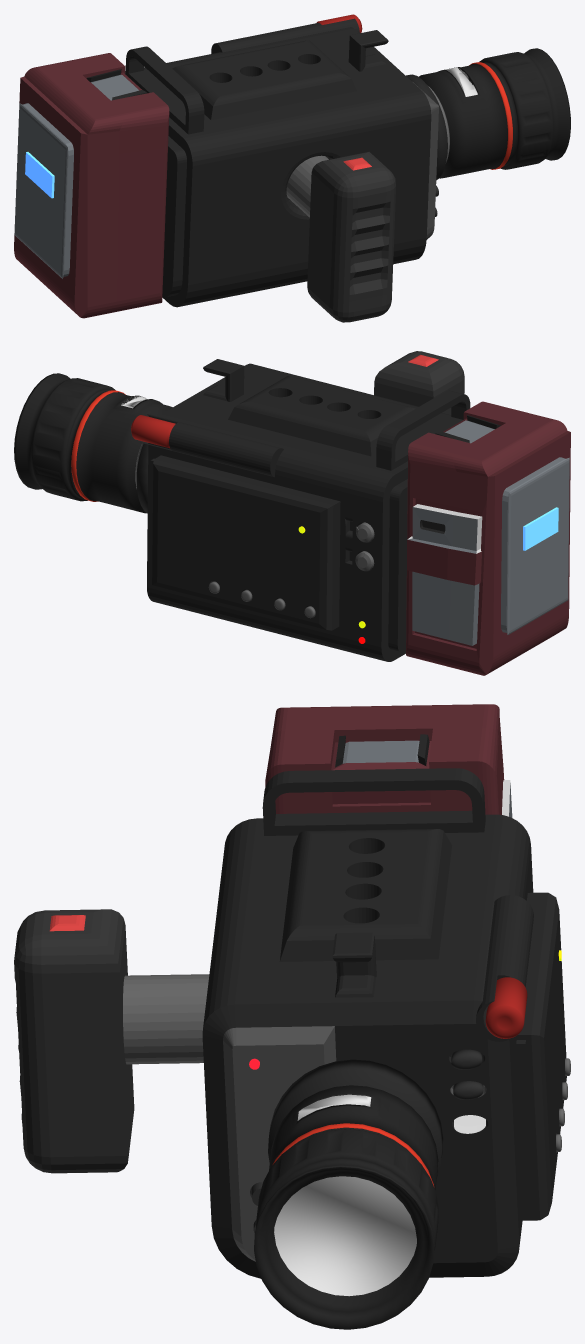
The model's file is Thermal_Camera.glb.
The picture shows the model from 3 angles, top to bottom: view 1: azimuth 30°, elevation 25°; view 2: azimuth 150°, elevation 25°; view 3: azimuth 270°, elevation 25°; orthographic projection. The views are drawn at different scales.
Parts seen in each view (by area): view 1: Cube.007, Cube.006, Cube.004, Cylinder.039_Material.015_0, Cylinder.038, Cube.005, Cylinder.021, Cylinder.040, Cylinder.039_Material.013_0; view 2: Cube.007, Cube.006, Cylinder.039_Material.015_0, Cube.004, Cylinder.038, Cube.005, Cylinder.036, Cylinder.040, Cylinder.039_Material.013_0; view 3: Cube.007, Cube.004, Cylinder.039_Material.015_0, Cube.006, lens, Cylinder.021, Cylinder.040, Cylinder.038, Cube.005, Cylinder.036, Cylinder.039_Material.013_0.
Boxes of the visible parts, x1,y1,x2,y2 form: Cube.007: [125, 27, 438, 307]; Cube.006: [14, 53, 169, 318]; Cube.004: [307, 152, 395, 322]; Cylinder.039_Material.015_0: [418, 48, 570, 178]; Cylinder.038: [211, 18, 359, 53]; Cube.005: [348, 30, 388, 71]; Cylinder.021: [286, 155, 328, 217]; Cylinder.040: [406, 74, 449, 180]; Cylinder.039_Material.013_0: [469, 62, 512, 169]; Cube.007: [147, 363, 470, 661]; Cube.006: [406, 401, 570, 675]; Cylinder.039_Material.015_0: [14, 373, 172, 513]; Cube.004: [374, 351, 464, 414]; Cylinder.038: [140, 414, 283, 477]; Cube.005: [203, 359, 244, 401]; Cylinder.036: [131, 415, 175, 448]; Cylinder.040: [135, 408, 170, 513]; Cylinder.039_Material.013_0: [71, 390, 125, 501]; Cube.007: [202, 768, 566, 1278]; Cube.004: [14, 909, 134, 1173]; Cylinder.039_Material.015_0: [254, 1085, 438, 1329]; Cube.006: [265, 704, 512, 817]; lens: [274, 1176, 416, 1296]; Cylinder.021: [123, 974, 209, 1064]; Cylinder.040: [268, 1059, 443, 1177]; Cylinder.038: [476, 895, 533, 1041]; Cube.005: [332, 932, 376, 997]; Cylinder.036: [485, 977, 527, 1038]; Cylinder.039_Material.013_0: [272, 1123, 434, 1187].
Bounding box in the file's own units: 4.25 × 1.84 × 2.61.
